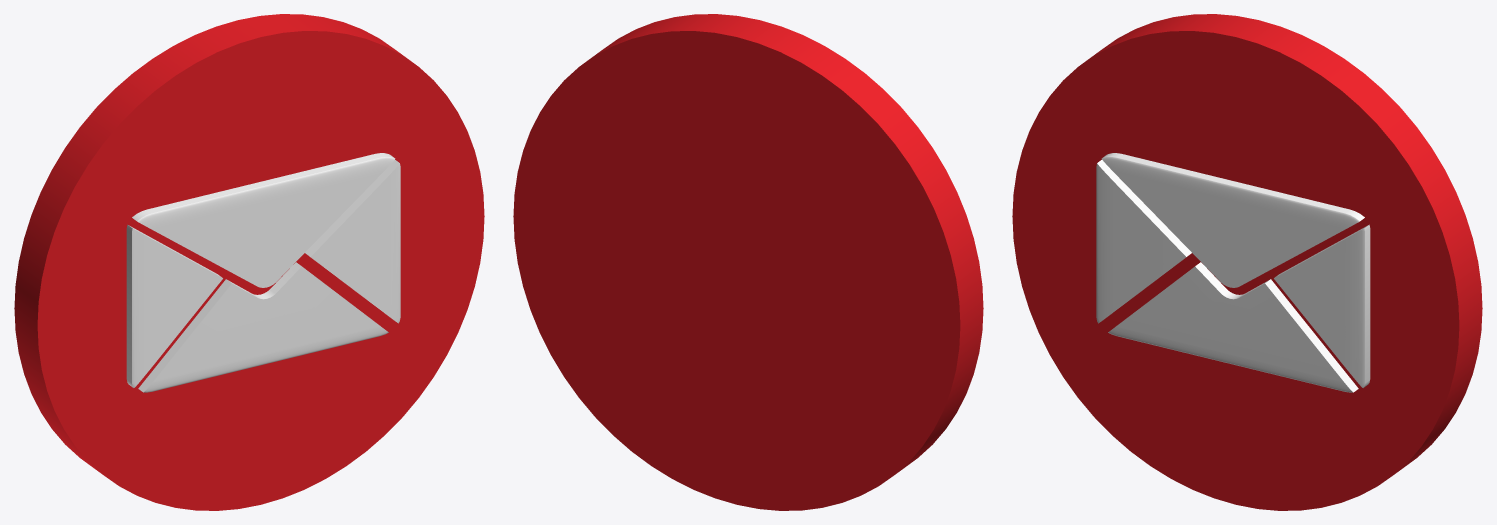
The model's file is mail_icon-transformed.glb.
3 views of the same model, side by side, from view 1: azimuth 30°, elevation 25°; view 2: azimuth 150°, elevation 25°; view 3: azimuth 330°, elevation 25° (orthographic).
Parts seen in each view (by area): view 1: Object_2, Object_3; view 2: Object_2; view 3: Object_2, Object_3.
Part boxes in pixels (left/top/right/bottom): Object_2: left=14, top=14, right=484, bottom=510; Object_3: left=126, top=153, right=400, bottom=392; Object_2: left=513, top=14, right=983, bottom=510; Object_2: left=1012, top=14, right=1482, bottom=510; Object_3: left=1096, top=153, right=1370, bottom=392.
Size of the model in its own units: 4.16 by 4.16 by 0.4674.
